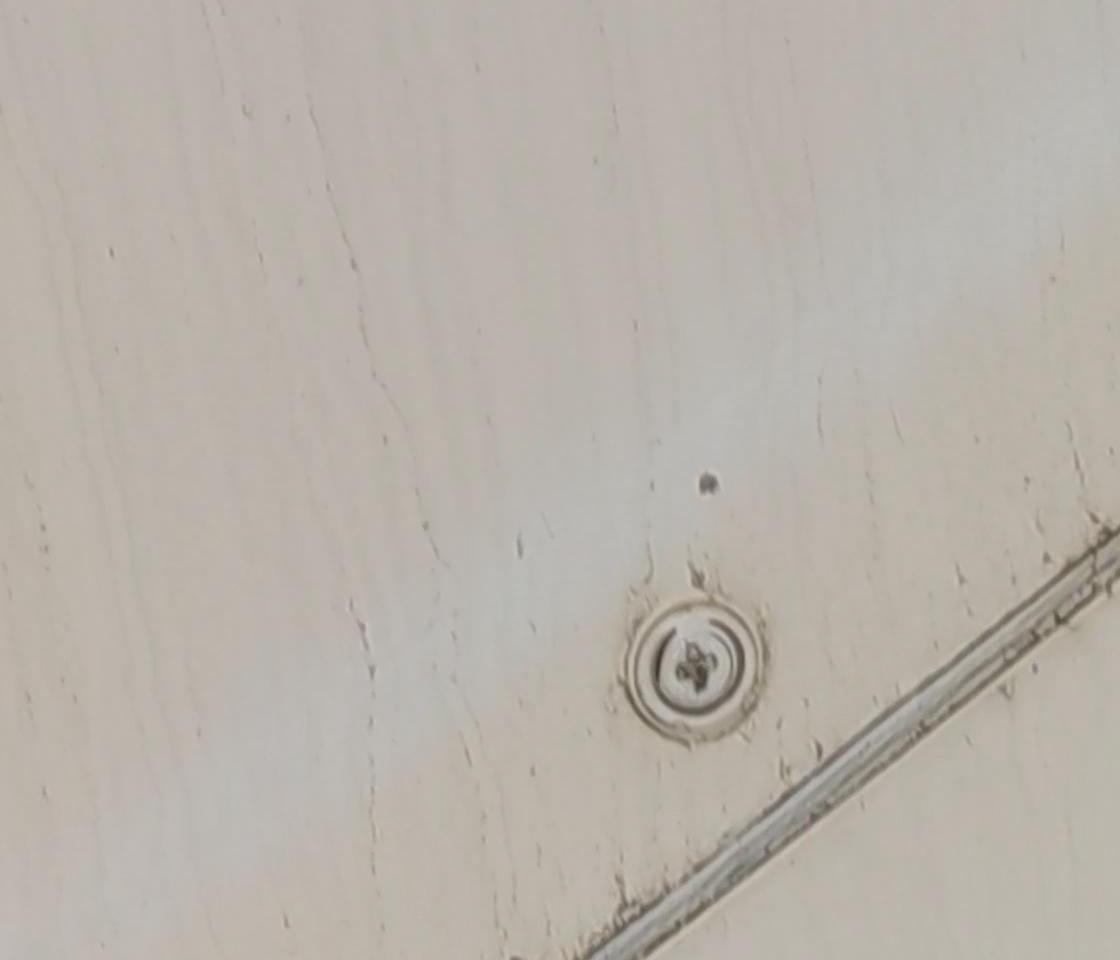scratch: (693, 468, 734, 498)
